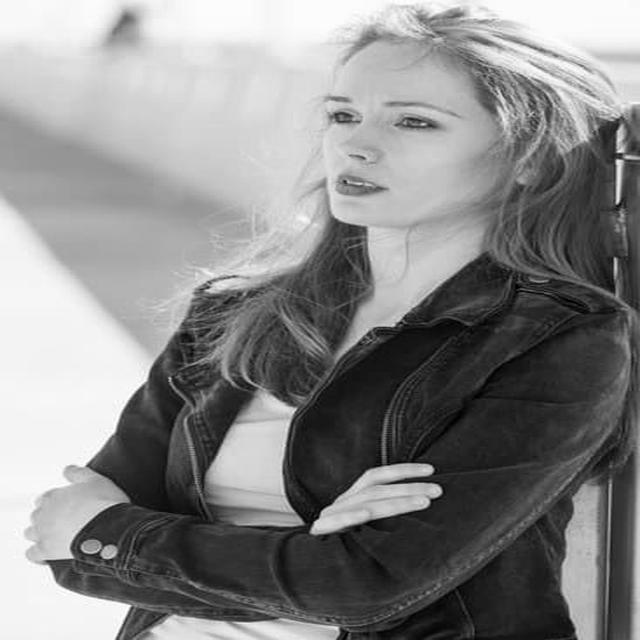Sadness: (325, 42, 487, 224)
